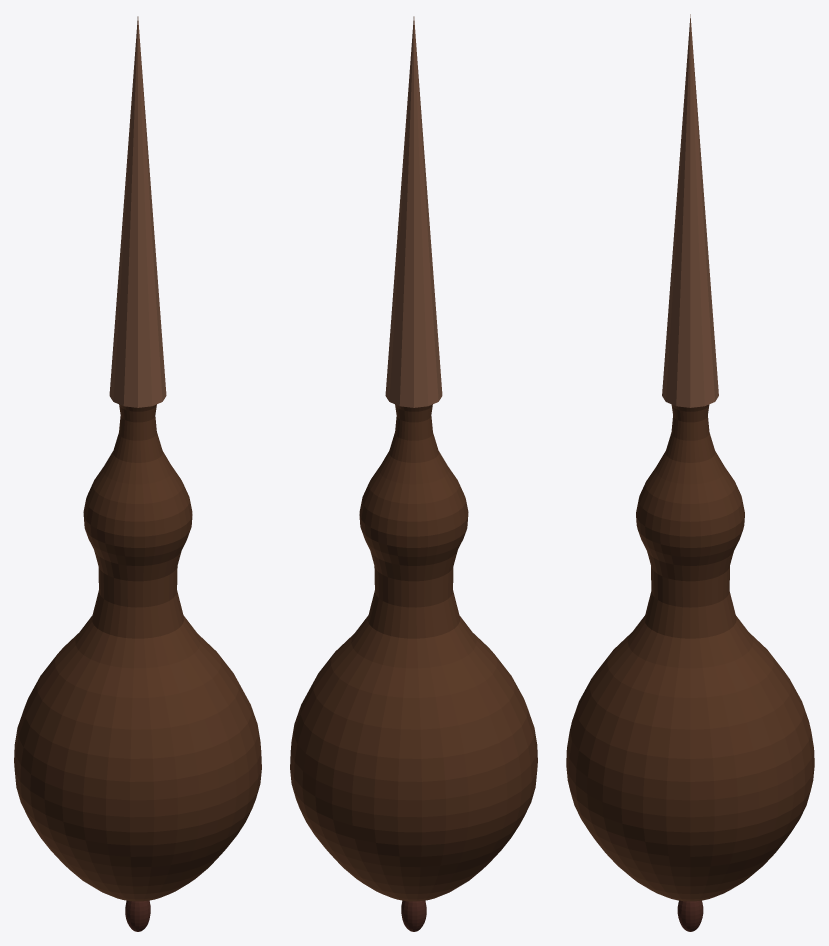
Rendered from Wand 626.glb.
3 renders of one model, left to right at view 1: azimuth 30°, elevation 25°; view 2: azimuth 150°, elevation 25°; view 3: azimuth 270°, elevation 25°, orthographic.
Parts seen in each view (by area): view 1: GeneratedWand; view 2: GeneratedWand; view 3: GeneratedWand.
Boxes of the visible parts, <box> form: GeneratedWand: <box>14,16,261,931</box>; GeneratedWand: <box>290,16,537,931</box>; GeneratedWand: <box>566,14,814,931</box>.
Bounding box in the file's own units: 0.123 × 0.5007 × 0.123.
